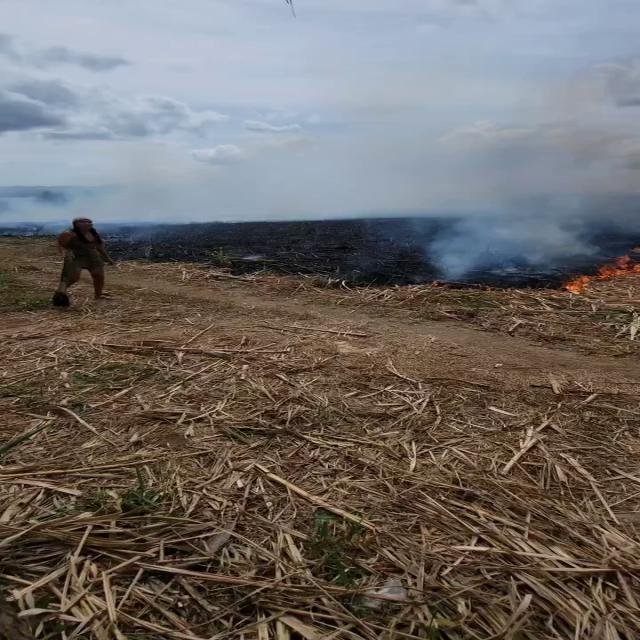Fire: (559, 249, 638, 297)
Smoke: (398, 60, 638, 284), (3, 118, 384, 232)
